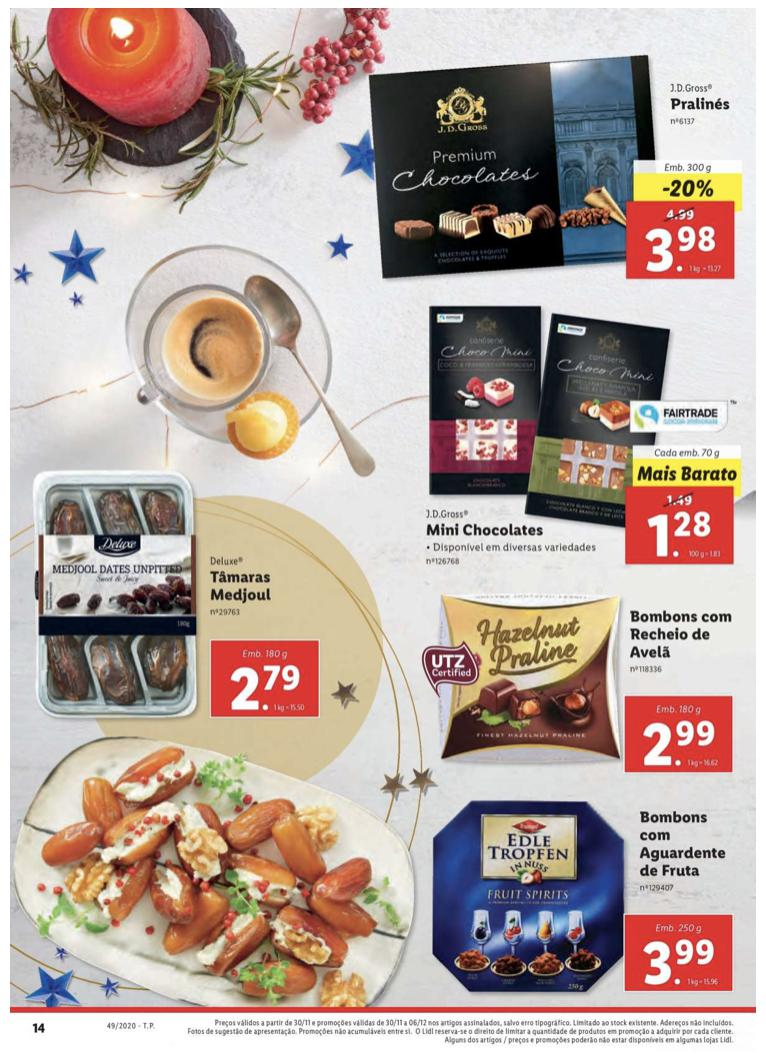name: (635, 806, 734, 878), (625, 606, 737, 661), (208, 566, 276, 606), (426, 517, 548, 538), (667, 94, 731, 114)
price: (638, 714, 722, 772), (638, 931, 722, 987), (638, 219, 720, 274), (650, 506, 714, 562), (226, 664, 302, 711)
product: (384, 299, 743, 577), (351, 55, 737, 299), (25, 460, 321, 732), (420, 773, 743, 1006), (420, 577, 743, 773)
